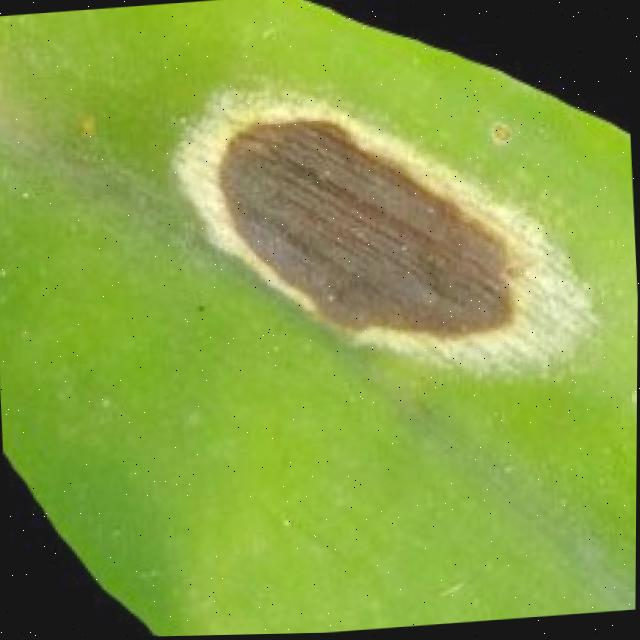mite: (3, 413, 195, 640), (62, 101, 105, 145), (478, 113, 518, 157), (486, 119, 513, 146), (73, 110, 97, 137), (189, 294, 211, 321), (192, 299, 208, 316)
sunburn: (209, 93, 527, 362)
